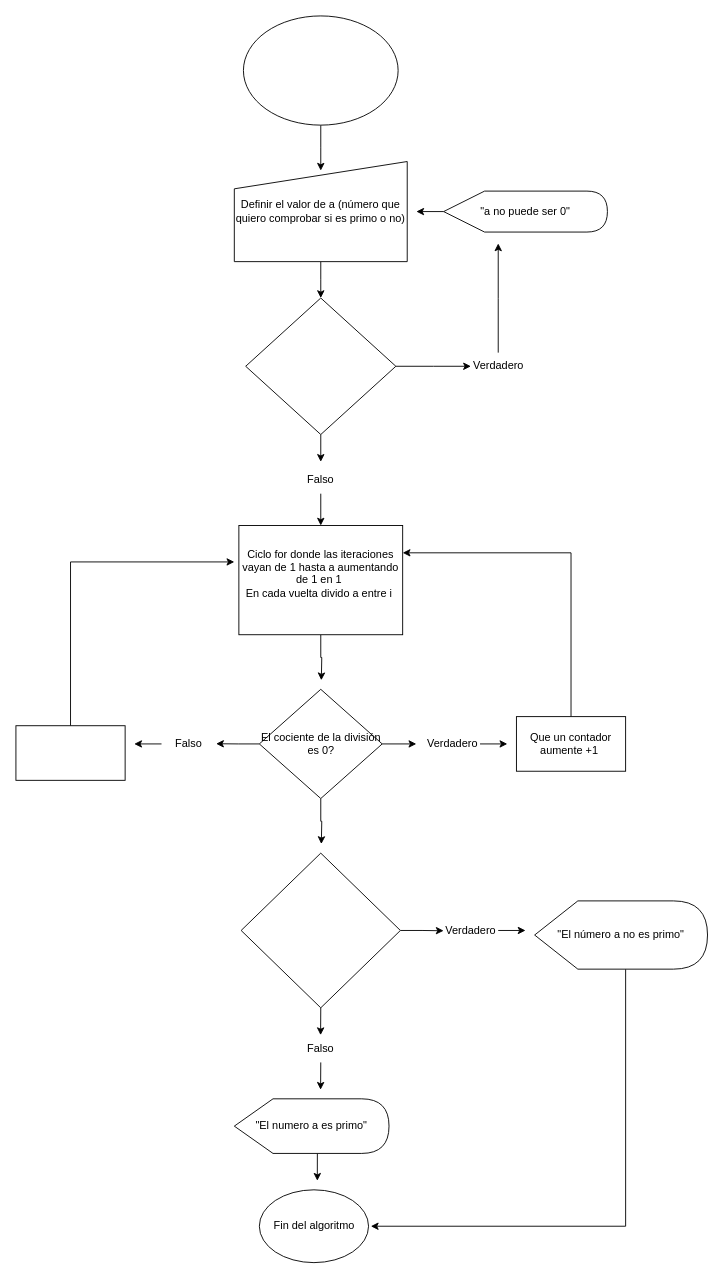
Some shapes in this 723 by 1279 pixel diagram are drawn without their labels. The shapes that lost their labels are listed below. From the top down, each one's centre as x and y in pixels, then its label:
At point 320,70: "Inicio del algoritmo".
At point 320,366: "a es == 0?".
At point 70,752: "Contador no aumenta".
At point 320,930: "El contador es > 2?".
